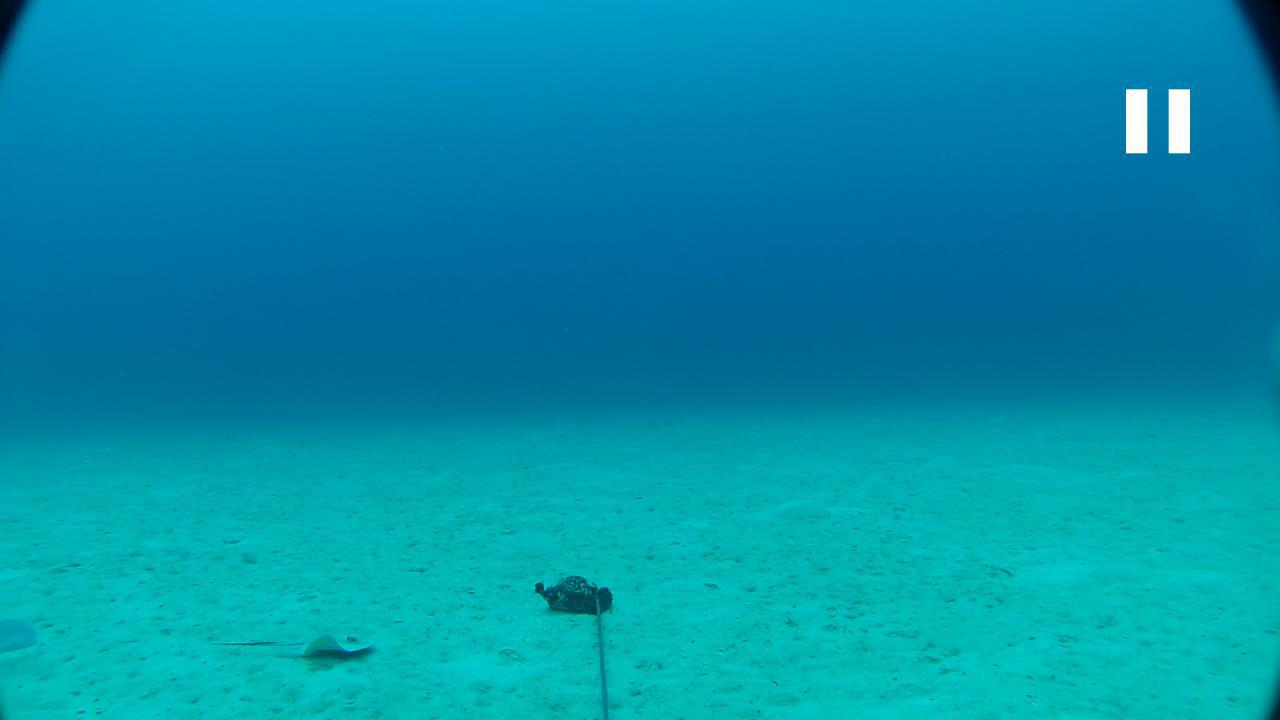dasyatis: (206, 626, 372, 658)
